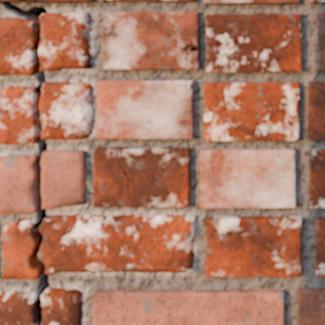brick: (93, 290, 283, 324), (206, 216, 300, 276), (94, 148, 189, 206), (97, 81, 193, 138), (200, 149, 294, 207), (206, 14, 301, 71), (103, 12, 199, 68), (204, 83, 298, 140), (298, 288, 324, 324), (308, 82, 324, 139), (310, 149, 324, 207), (316, 218, 324, 276), (318, 13, 324, 69), (205, 0, 298, 2), (38, 0, 93, 1), (309, 0, 324, 1)
broken_brick: (39, 214, 195, 275), (40, 81, 92, 140), (40, 12, 91, 71), (42, 149, 87, 209), (2, 217, 39, 280), (0, 85, 38, 144), (0, 154, 37, 214), (0, 16, 35, 75), (42, 286, 82, 324), (0, 291, 35, 324)
crack: (0, 0, 51, 324), (166, 31, 199, 61), (187, 83, 193, 91), (17, 0, 37, 1)
